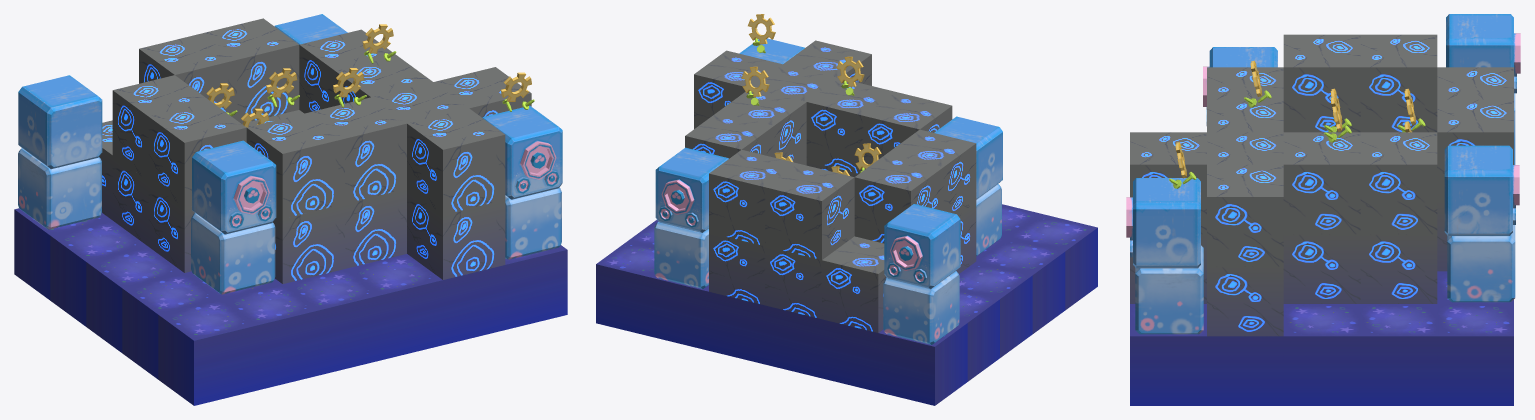
File: freemap_Stage.fbx
The picture shows the model from 3 angles, left to right: view 1: azimuth 30°, elevation 25°; view 2: azimuth 150°, elevation 25°; view 3: azimuth 270°, elevation 25°; orthographic projection. The views are drawn at different scales.
Visible parts, largest first — view 1: Cube.058, Cube.frozen.052, Cube.frozen.060, Cube.075, Cube.057, Cube.frozen.044, Cube.frozen.061, Cube.frozen.059, Cube.frozen.056, Cube.074, Cube.056, Cube.077 (+17 smaller); view 2: Cube.058, Cube.frozen.057, Cube.057, Cube.frozen.058, Cube.frozen.056, Cube.frozen.039, Cube.frozen.061, Cube.056, Cube.073, Cube.frozen.059, Cube.frozen.060, Cube.frozen.038 (+14 smaller); view 3: Cube.058, Cube.frozen.054, Cube.frozen.053, Cube.frozen.037, Cube.frozen.058, Cube.frozen.059, Cube.073, Cube.077, Cube.frozen.045, Cube.frozen.046, Cube.frozen.047, Cube.076 (+14 smaller).
Part boxes in pixels (x1,y1,x2,y2): Cube.058: (14, 208, 567, 405); Cube.frozen.052: (407, 108, 505, 214); Cube.frozen.060: (246, 112, 344, 218); Cube.075: (192, 140, 276, 234); Cube.057: (18, 75, 102, 169); Cube.frozen.044: (407, 189, 505, 279); Cube.frozen.061: (309, 97, 406, 203); Cube.frozen.059: (148, 101, 246, 207); Cube.frozen.056: (201, 18, 299, 123); Cube.074: (191, 213, 275, 294); Cube.056: (18, 148, 101, 229); Cube.077: (482, 105, 562, 199); Cube.058: (596, 204, 1097, 405); Cube.frozen.057: (765, 163, 854, 259); Cube.057: (884, 204, 960, 289); Cube.frozen.058: (854, 153, 943, 243); Cube.frozen.056: (709, 149, 797, 246); Cube.frozen.039: (822, 236, 886, 332); Cube.frozen.061: (806, 79, 895, 173); Cube.056: (883, 271, 959, 344); Cube.073: (655, 147, 728, 232); Cube.frozen.059: (887, 129, 976, 215); Cube.frozen.060: (863, 92, 952, 169); Cube.frozen.038: (765, 246, 821, 319); Cube.058: (1130, 271, 1513, 405); Cube.frozen.054: (1360, 132, 1437, 234); Cube.frozen.053: (1283, 132, 1360, 234); Cube.frozen.037: (1207, 164, 1283, 266); Cube.frozen.058: (1360, 34, 1437, 132); Cube.frozen.059: (1283, 34, 1360, 132); Cube.073: (1444, 145, 1519, 235); Cube.077: (1126, 178, 1200, 268); Cube.frozen.045: (1207, 266, 1283, 336); Cube.frozen.046: (1283, 234, 1360, 303); Cube.frozen.047: (1360, 234, 1437, 303); Cube.076: (1135, 245, 1203, 334).
Bounding box in the file's own units: 1080 × 673 × 924.
